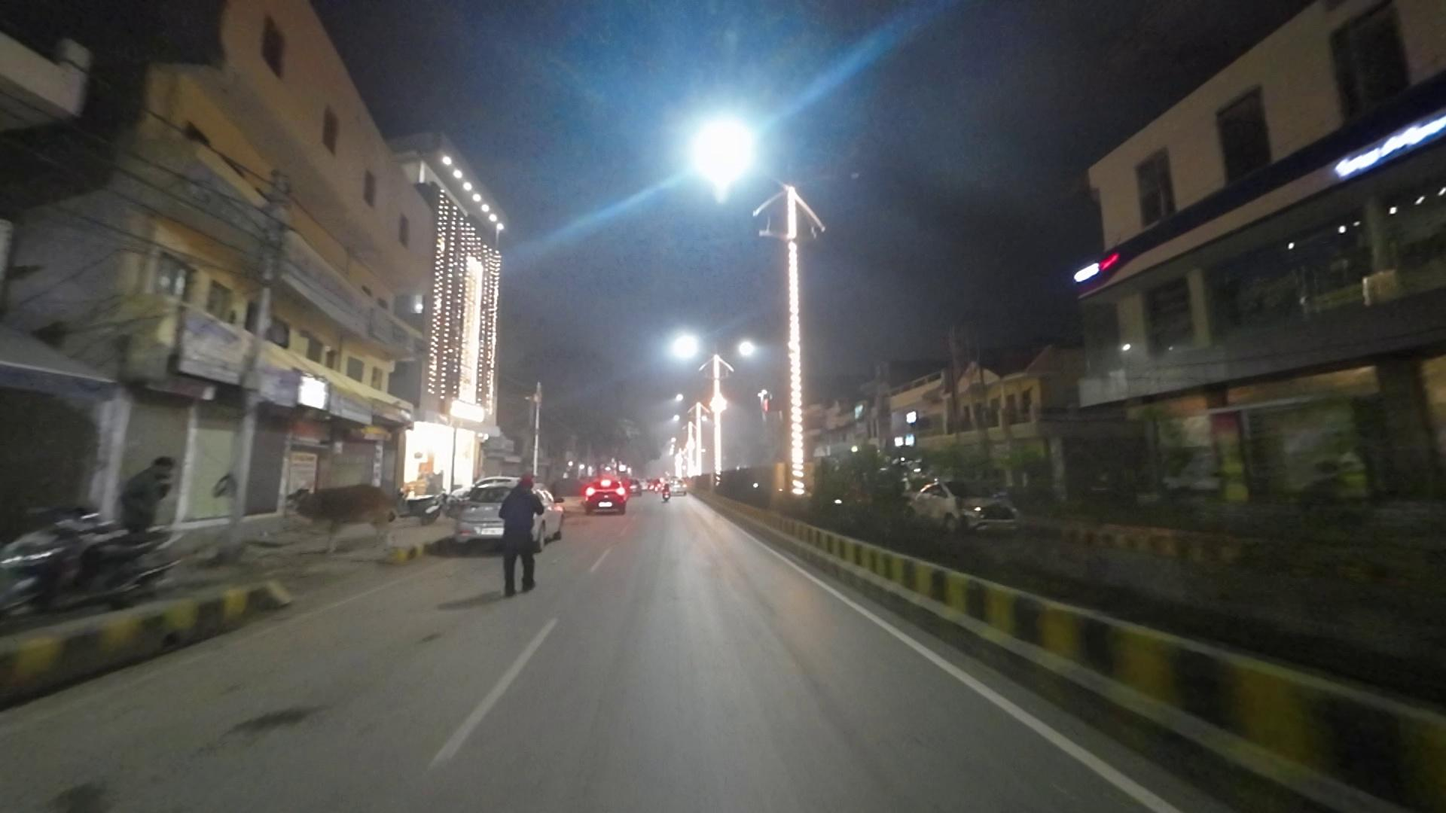streetlight: (800, 167, 864, 190)
